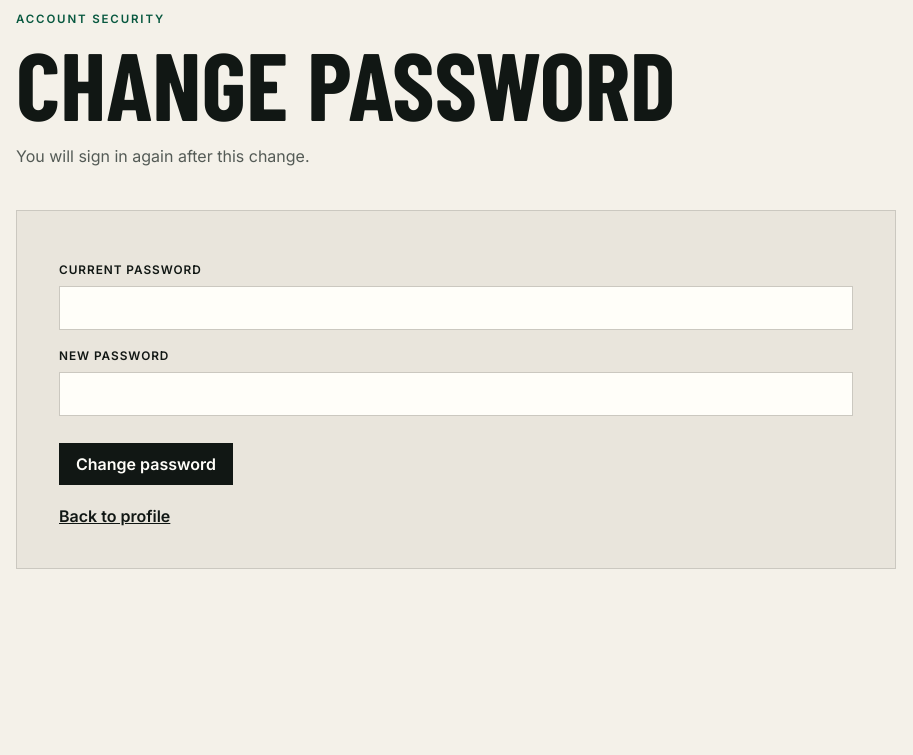
Scenario: validates the new password and signs out after a successful change
Type "old-password" into the password field labelled "Current password". click: (456, 308)
box: x1=59 y1=286 x2=853 y2=330
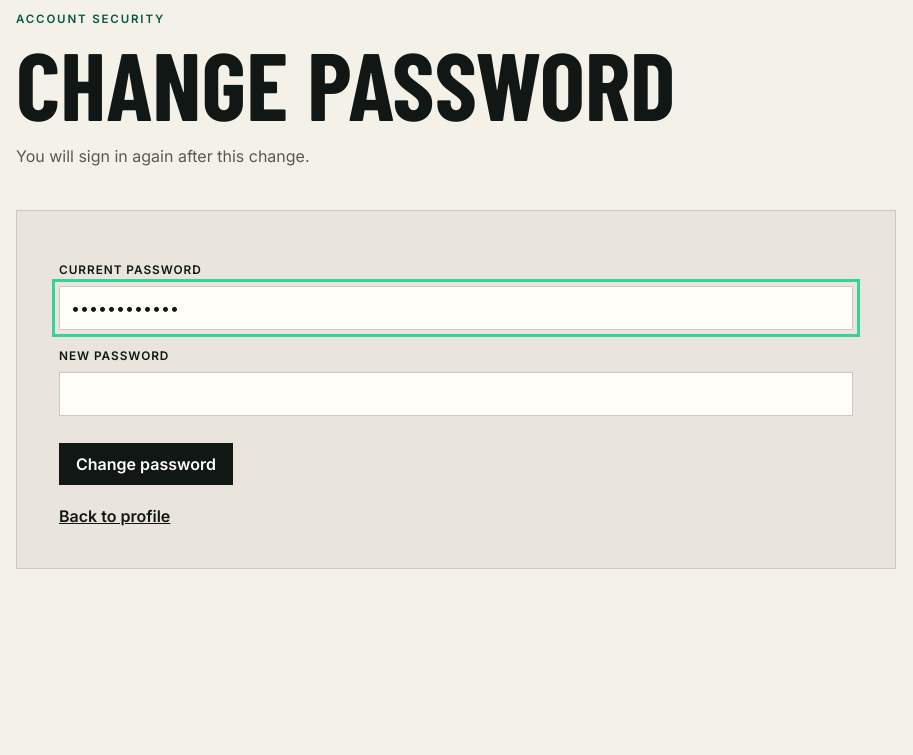
Type "short" into the password field labelled "New password". click: (456, 394)
box: x1=59 y1=372 x2=853 y2=416
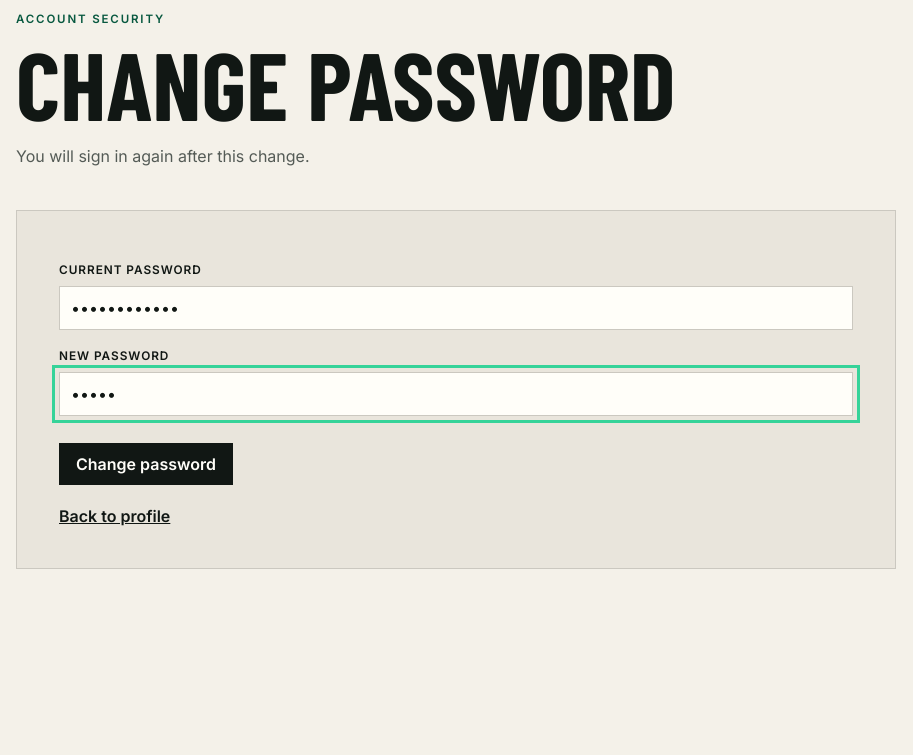
Click the button "Change password". click: (146, 464)
box: x1=59 y1=443 x2=233 y2=485
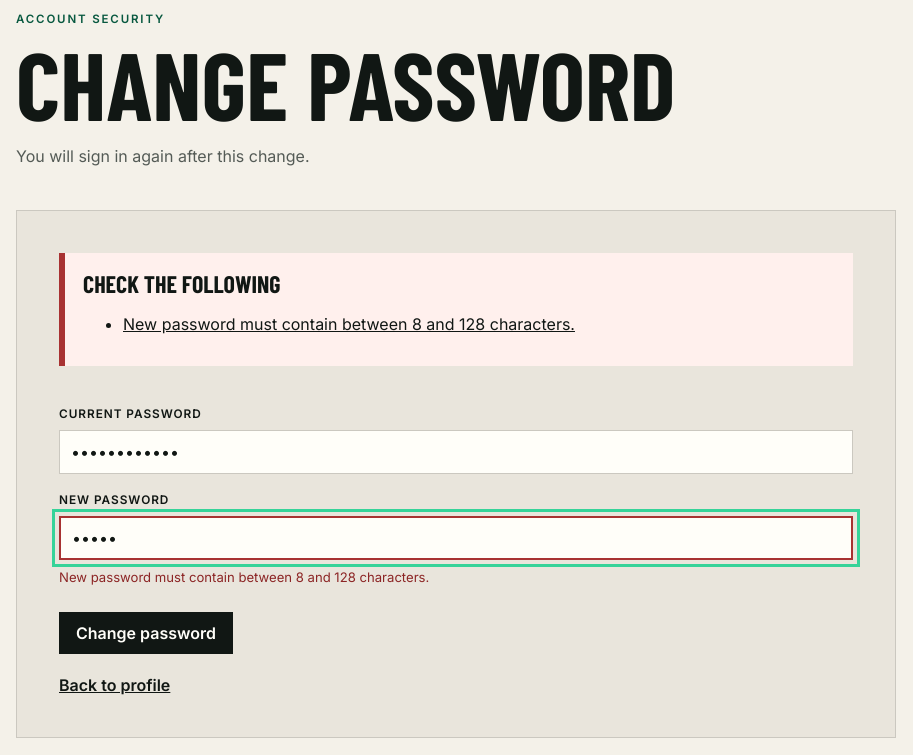
Result: the number of links "New password must contain between 8 and 128 characters." is 2 at x1=123 y1=314 x2=575 y2=334; x1=59 y1=569 x2=429 y2=585
Type "new-password" into the password field labelled "New password". click: (456, 538)
box: x1=59 y1=516 x2=853 y2=560
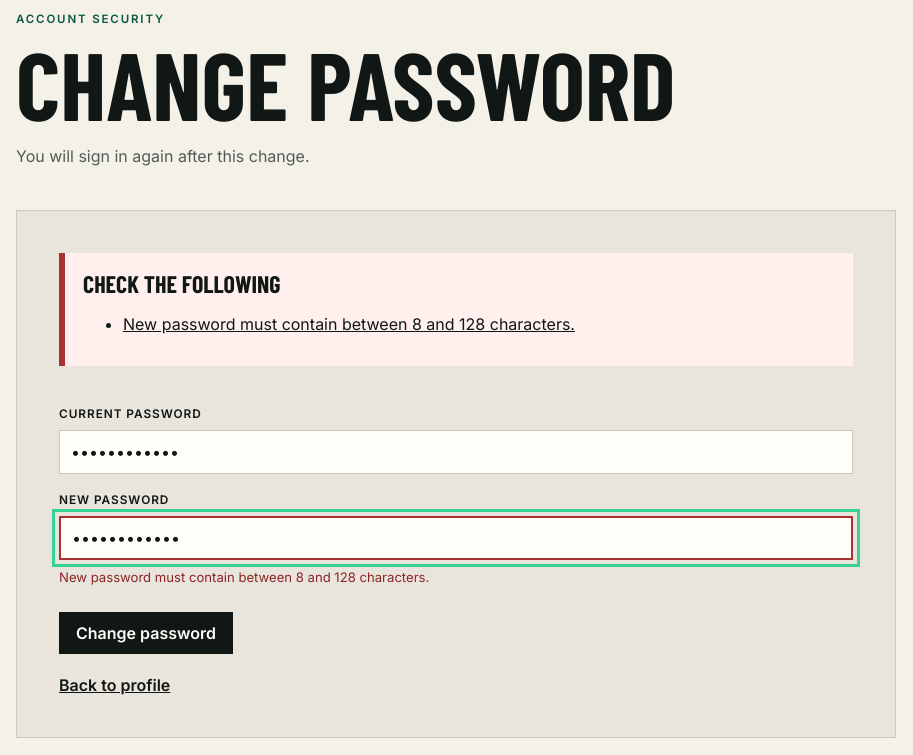
Click the button "Change password". click: (146, 633)
box: x1=59 y1=612 x2=233 y2=654
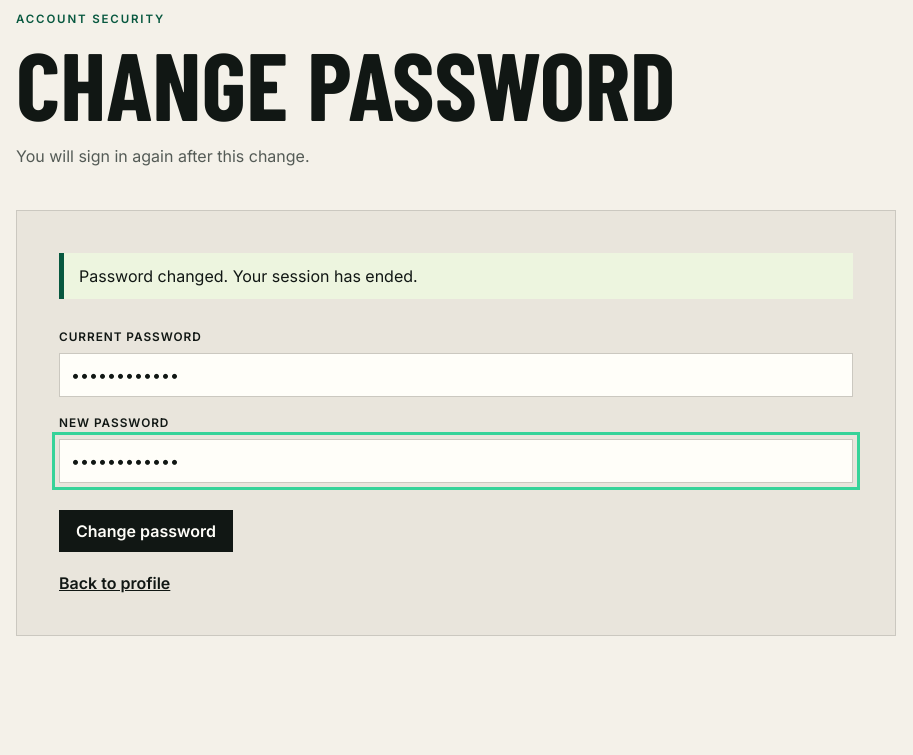
Result: the text "Password changed. Your session has ended." is shown at x1=59 y1=253 x2=853 y2=299
